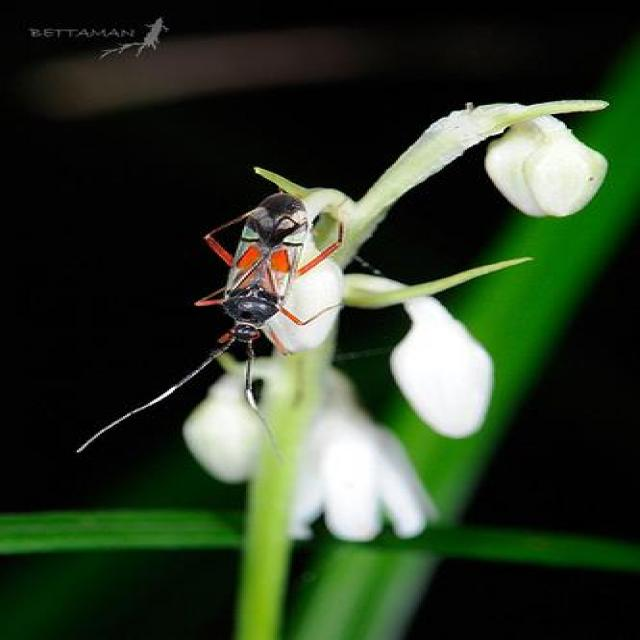Miridae-Adult-: (115, 182, 350, 424)
